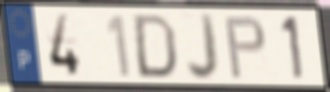1: (280, 14, 306, 83), (106, 13, 131, 78)
4: (48, 12, 82, 78)
D: (133, 12, 178, 81)
J: (185, 10, 221, 83)
P: (222, 14, 268, 81)
